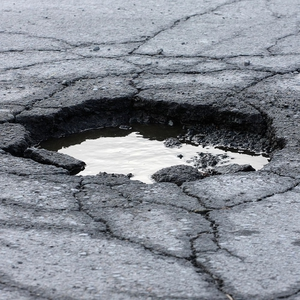pothole: (19, 98, 286, 182)
